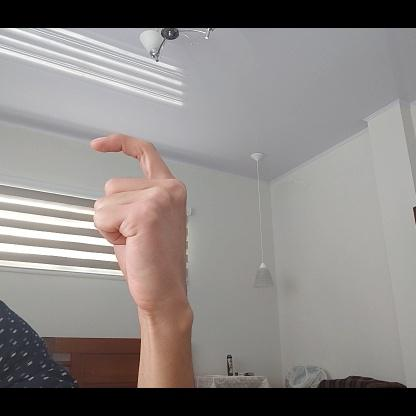X: (88, 130, 201, 328)
